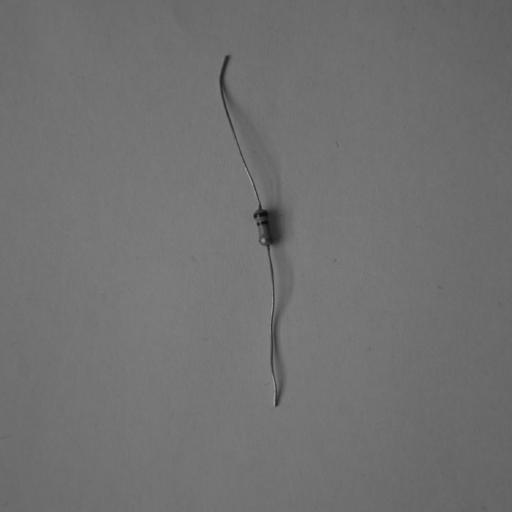RESISTOR: (222, 197, 286, 278)
